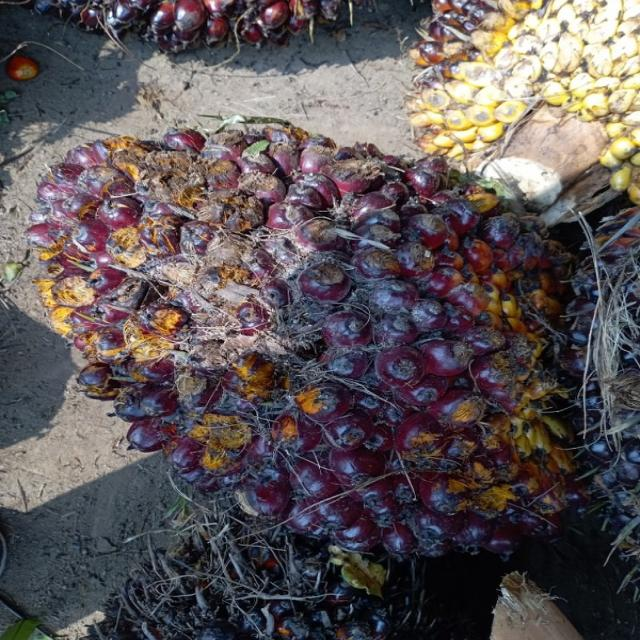fraksi 1: (23, 122, 609, 548)
